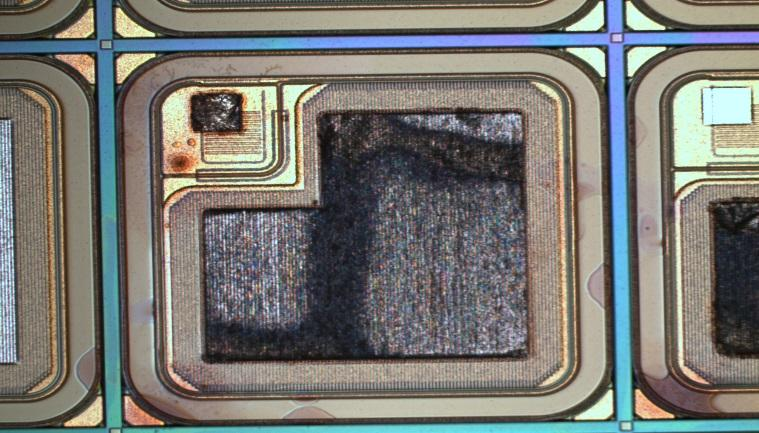SEZ BURNT: (190, 93, 532, 364), (710, 198, 759, 358)
